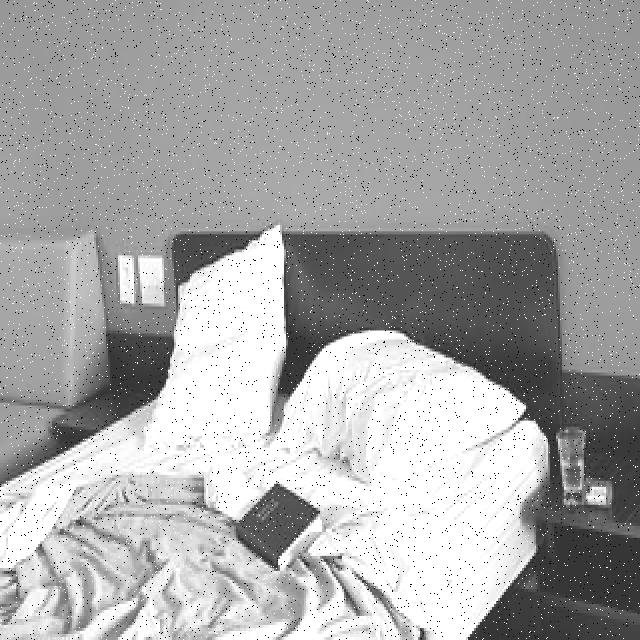bed: (0, 222, 548, 640)
